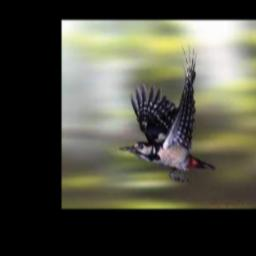Woodpecker: (119, 44, 217, 181)
